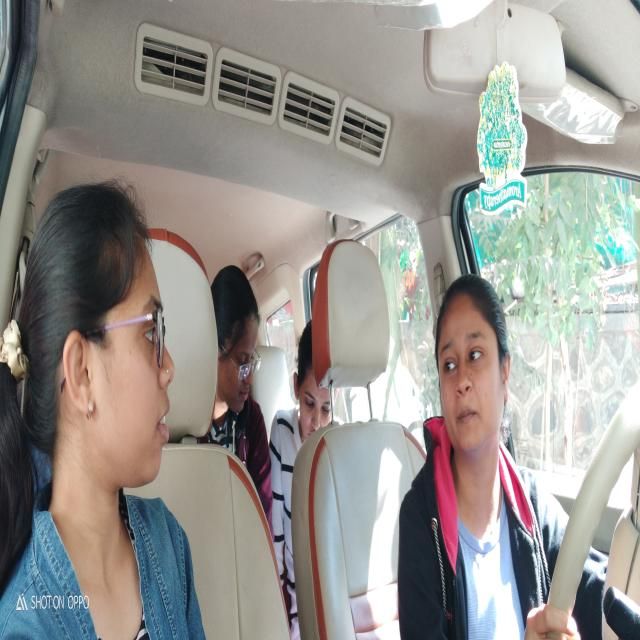LeftRight: (67, 199, 185, 497), (435, 284, 510, 460)
person: (222, 284, 263, 415), (293, 326, 334, 434)
